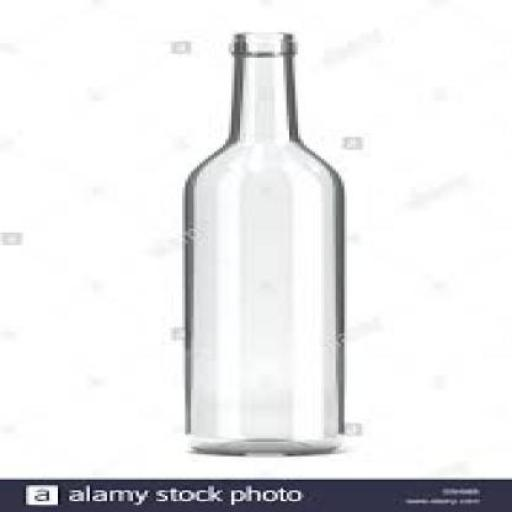glass: (182, 31, 339, 454)
